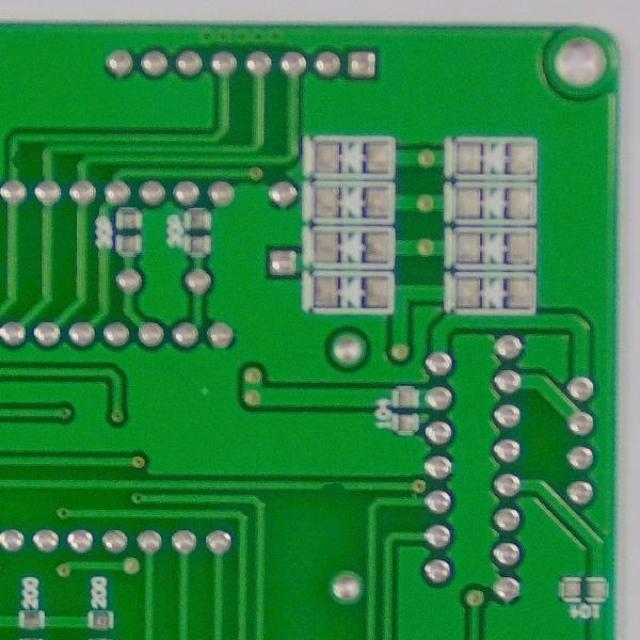mouse_bite: (309, 477, 353, 499), (5, 144, 31, 177)
